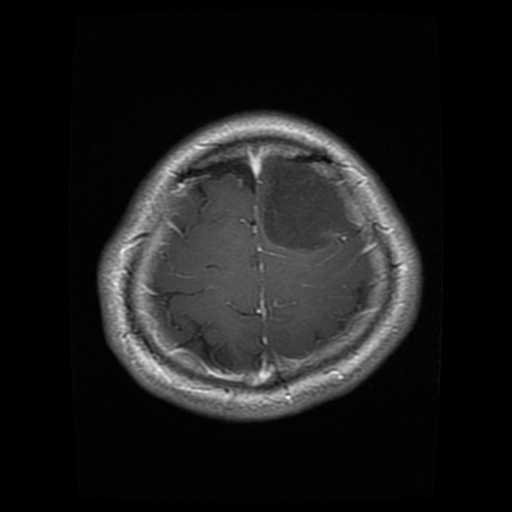glioma: (257, 154, 362, 252)
